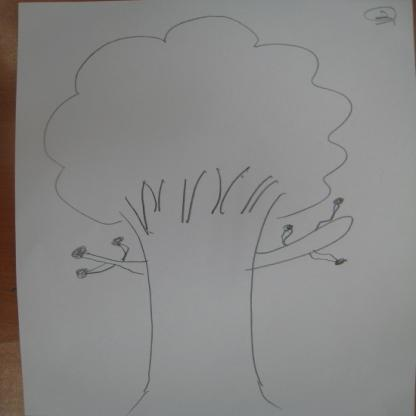branch_line: (109, 161, 289, 223)
crown_cloud: (37, 12, 355, 225)
trunk_straight: (140, 278, 266, 375)
